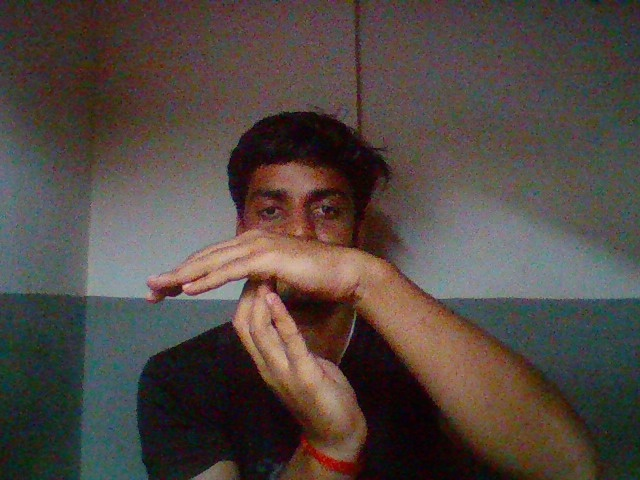J: (168, 228, 428, 464)
